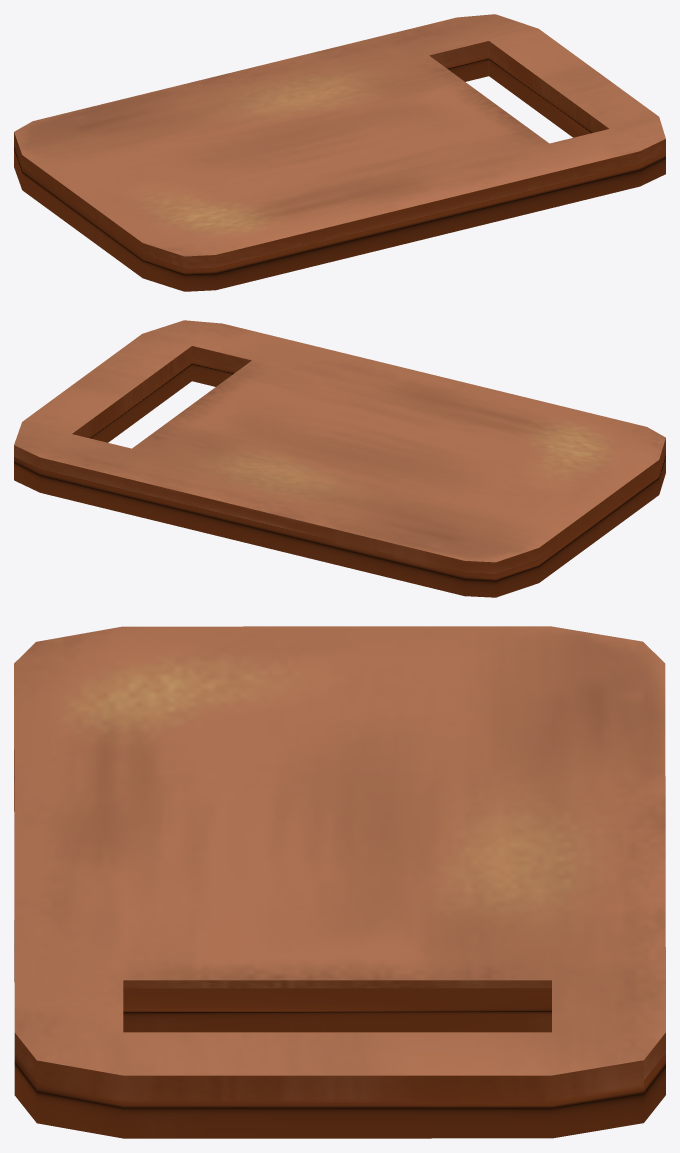
File: Tabla de corte 1.fbx
The picture shows the model from 3 angles, top to bottom: view 1: azimuth 30°, elevation 25°; view 2: azimuth 150°, elevation 25°; view 3: azimuth 270°, elevation 25°; orthographic projection. The views are drawn at different scales.
Visible parts, largest first — view 1: mesa_y_olla_corregido.002; view 2: mesa_y_olla_corregido.002; view 3: mesa_y_olla_corregido.002.
Boxes of the visible parts, x1,y1,x2,y2 form: mesa_y_olla_corregido.002: [14, 14, 665, 291]; mesa_y_olla_corregido.002: [14, 320, 665, 597]; mesa_y_olla_corregido.002: [14, 626, 665, 1138].
Bounding box in the file's own units: 108 × 7.03 × 66.04.
